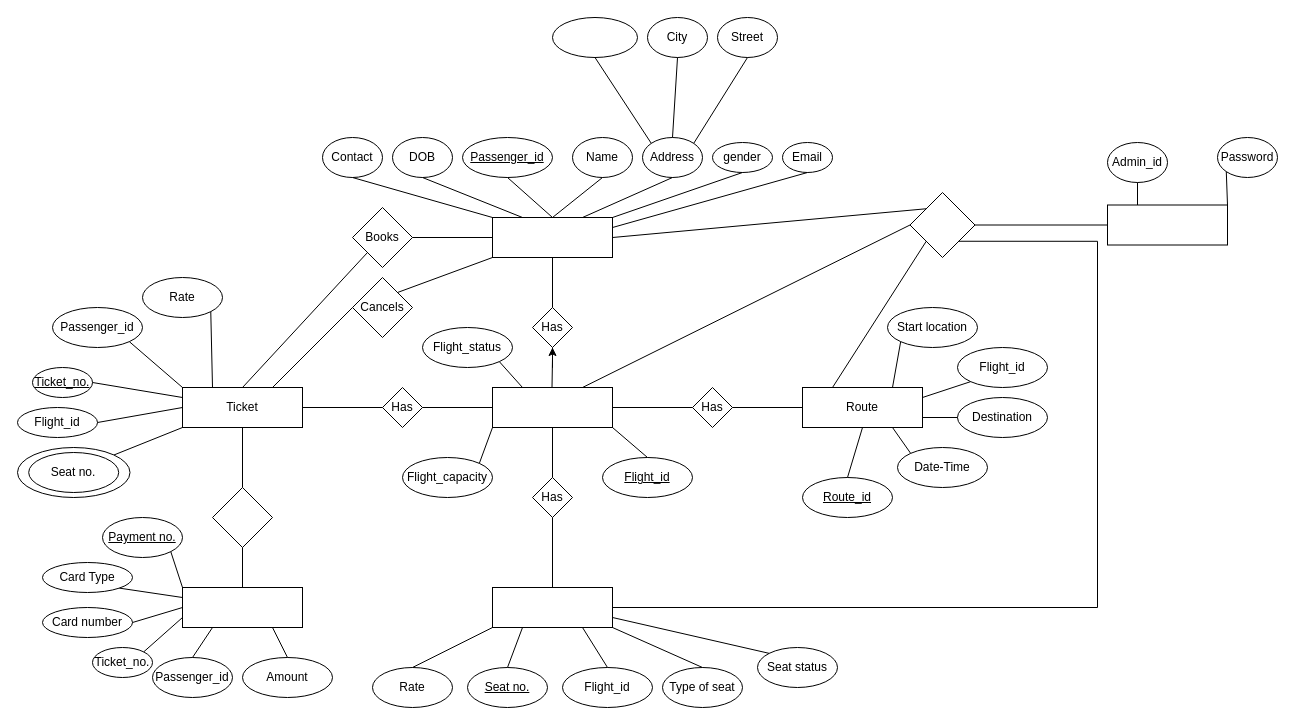
Image size: 1295x725. Some labels were removed from this diagram. The centre of each missing label's shape, as x and y in pixels:
"Admin" goes at [1167,224].
"Flight" goes at [552,407].
"Manages" goes at [942,225].
"Passenger" goes at [552,237].
"Payment" goes at [242,607].
"Postal_code" goes at [595,37].
"Recieves" goes at [242,517].
"Seat" goes at [552,607].
